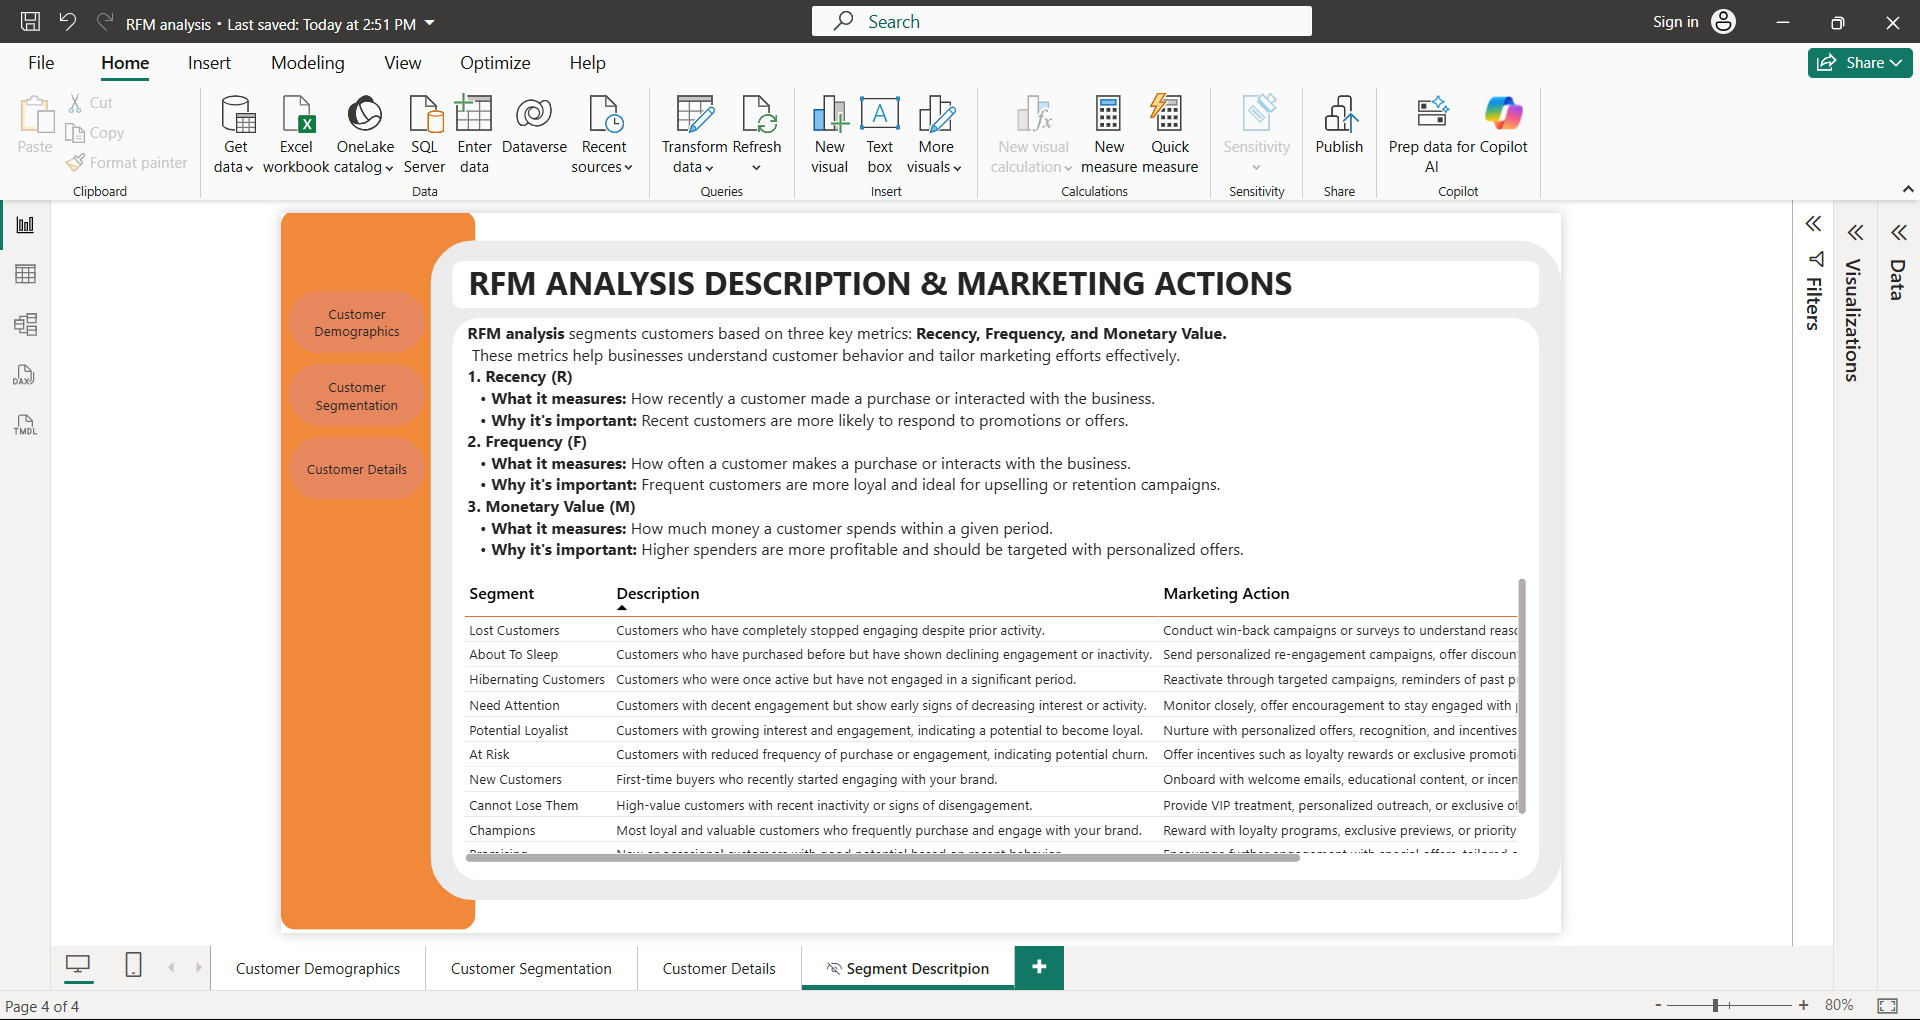

The dashboard page shown, as its layout file describes it:
{"tool":"powerbi","page":{"name":"Segment Descritpion","canvas":[1280,720],"ordinal":3},"visuals":[{"type":"textbox","box":[181.4,104.3,1098.6,278.6],"z":0},{"type":"tableEx","fields":{"Values":["Segment Description.Segment","Segment Description.Description","Segment Description.Marketing Action"]},"box":[177.1,360,1072.9,294.3],"z":1000},{"type":"textbox","box":[182.9,42.9,878.6,61.4],"z":1001},{"type":"pageNavigator","box":[7.1,77.1,137.1,211.4],"z":1002}]}

Visuals, with their boxes on the page's 1280x720 design canvas (x1, y1, x2, y2). These are canvas units, not pixel positions in the 1920x1020 screenshot, which may show the page scaled, cropped or inside an application window:
textbox: pyautogui.locateOnScreen(181, 104, 1280, 383)
tableEx - Segment Description.Segment x Segment Description.Description: pyautogui.locateOnScreen(177, 360, 1250, 654)
textbox: pyautogui.locateOnScreen(183, 43, 1062, 104)
pageNavigator: pyautogui.locateOnScreen(7, 77, 144, 288)
